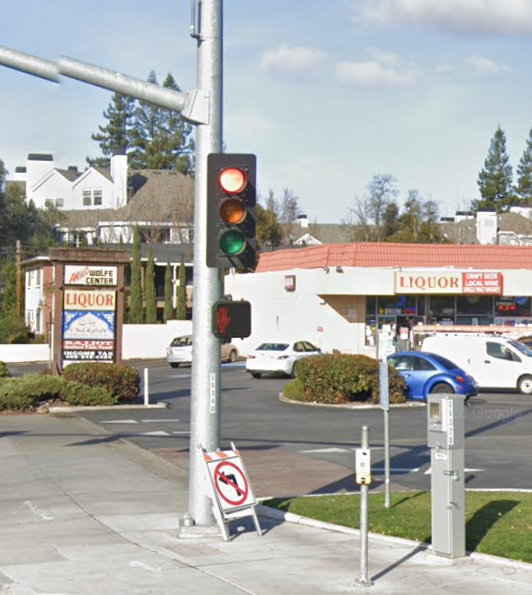red_light: (209, 157, 256, 269)
